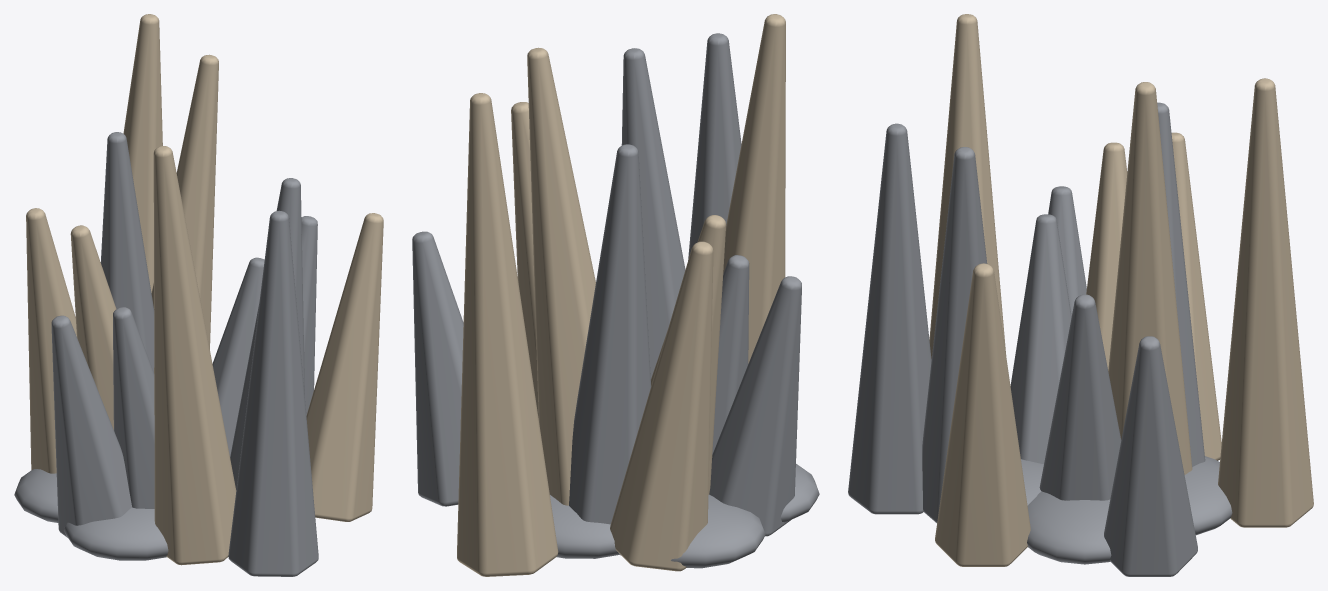
Rendered from bio_crystal_fan_21_near.glb.
The picture shows the model from 3 angles, left to right: view 1: azimuth 30°, elevation 25°; view 2: azimuth 150°, elevation 25°; view 3: azimuth 270°, elevation 25°; orthographic projection. The views are drawn at different scales.
Visible parts, largest first — view 1: Reflecting mineral prism.007, Reflecting mineral prism.002, Reflecting mineral prism.005, Reflecting mineral prism.004, Reflecting mineral prism.001, Reflecting mineral prism.003, Reflecting mineral prism.006, Reflecting mineral prism.012, Reflecting mineral prism.011, Mineral substrate, Reflecting mineral prism.009, Reflecting mineral prism (+2 smaller); view 2: Reflecting mineral prism.011, Reflecting mineral prism.001, Reflecting mineral prism.006, Reflecting mineral prism.003, Reflecting mineral prism.004, Reflecting mineral prism.007, Reflecting mineral prism.008, Reflecting mineral prism.010, Mineral substrate, Reflecting mineral prism.002, Reflecting mineral prism.012, Reflecting mineral prism.005 (+1 smaller); view 3: Reflecting mineral prism.011, Reflecting mineral prism.002, Reflecting mineral prism.005, Reflecting mineral prism.003, Reflecting mineral prism.008, Reflecting mineral prism, Reflecting mineral prism.010, Reflecting mineral prism.012, Mineral substrate, Reflecting mineral prism.007, Reflecting mineral prism.001, Reflecting mineral prism.009 (+2 smaller).
Boxes of the visible parts, x1=… form: Reflecting mineral prism.007: x1=153, y1=146, x2=236, y2=565; Reflecting mineral prism.002: x1=228, y1=210, x2=318, y2=576; Reflecting mineral prism.005: x1=306, y1=213, x2=383, y2=521; Reflecting mineral prism.004: x1=51, y1=315, x2=131, y2=537; Reflecting mineral prism.001: x1=26, y1=208, x2=76, y2=473; Reflecting mineral prism.003: x1=151, y1=54, x2=218, y2=373; Reflecting mineral prism.006: x1=100, y1=132, x2=154, y2=372; Reflecting mineral prism.012: x1=113, y1=307, x2=154, y2=508; Reflecting mineral prism.011: x1=123, y1=14, x2=162, y2=292; Mineral substrate: x1=14, y1=469, x2=168, y2=560; Reflecting mineral prism.009: x1=70, y1=225, x2=116, y2=429; Reflecting mineral prism: x1=212, y1=257, x2=264, y2=456; Reflecting mineral prism.011: x1=457, y1=93, x2=558, y2=576; Reflecting mineral prism.001: x1=610, y1=241, x2=713, y2=571; Reflecting mineral prism.006: x1=569, y1=144, x2=651, y2=524; Reflecting mineral prism.003: x1=527, y1=47, x2=595, y2=505; Reflecting mineral prism.004: x1=709, y1=276, x2=801, y2=536; Reflecting mineral prism.007: x1=723, y1=14, x2=785, y2=363; Reflecting mineral prism.008: x1=412, y1=231, x2=463, y2=506; Reflecting mineral prism.010: x1=621, y1=48, x2=685, y2=378; Mineral substrate: x1=550, y1=464, x2=819, y2=568; Reflecting mineral prism.002: x1=688, y1=33, x2=741, y2=260; Reflecting mineral prism.012: x1=712, y1=255, x2=749, y2=454; Reflecting mineral prism.005: x1=511, y1=102, x2=538, y2=417; Reflecting mineral prism.011: x1=1218, y1=78, x2=1313, y2=527; Reflecting mineral prism.002: x1=848, y1=123, x2=931, y2=514; Reflecting mineral prism.005: x1=935, y1=263, x2=1030, y2=566; Reflecting mineral prism.003: x1=1108, y1=82, x2=1192, y2=474; Reflecting mineral prism.008: x1=1104, y1=336, x2=1197, y2=576; Reflecting mineral prism: x1=1039, y1=294, x2=1121, y2=500; Reflecting mineral prism.010: x1=922, y1=147, x2=987, y2=522; Reflecting mineral prism.012: x1=1010, y1=214, x2=1071, y2=464; Mineral substrate: x1=1021, y1=456, x2=1232, y2=564; Reflecting mineral prism.007: x1=929, y1=14, x2=1006, y2=358; Reflecting mineral prism.001: x1=1171, y1=132, x2=1221, y2=460; Reflecting mineral prism.009: x1=1086, y1=142, x2=1127, y2=370.
Size of the model in its own units: 1.49 by 1.97 by 1.83.
